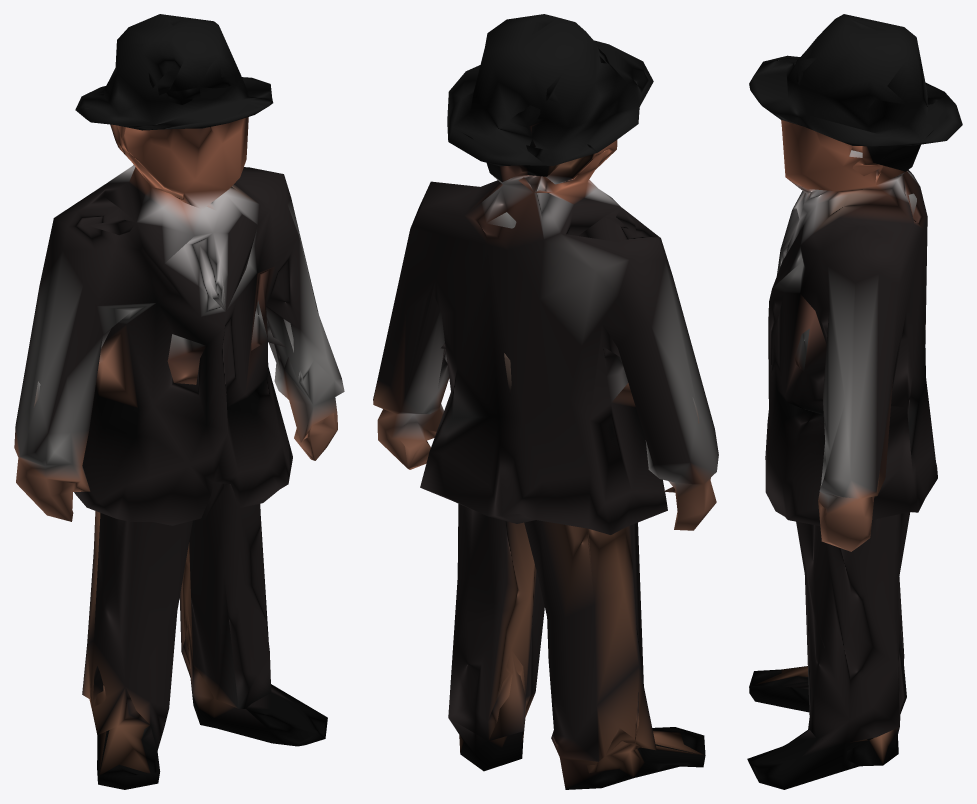
Rendered from gen3d-detective-lod0.glb.
3 renders of one model, left to right at view 1: azimuth 30°, elevation 25°; view 2: azimuth 150°, elevation 25°; view 3: azimuth 270°, elevation 25°, orthographic. The views are drawn at different scales.
Visible parts, largest first — view 1: part_0; view 2: part_0; view 3: part_0.
Part boxes in pixels (x1,y1,x2,y2): part_0: (14,14,344,789); part_0: (373,14,718,789); part_0: (747,14,962,789).
Bounding box in the file's own units: 0.4681 × 1 × 0.2731.
